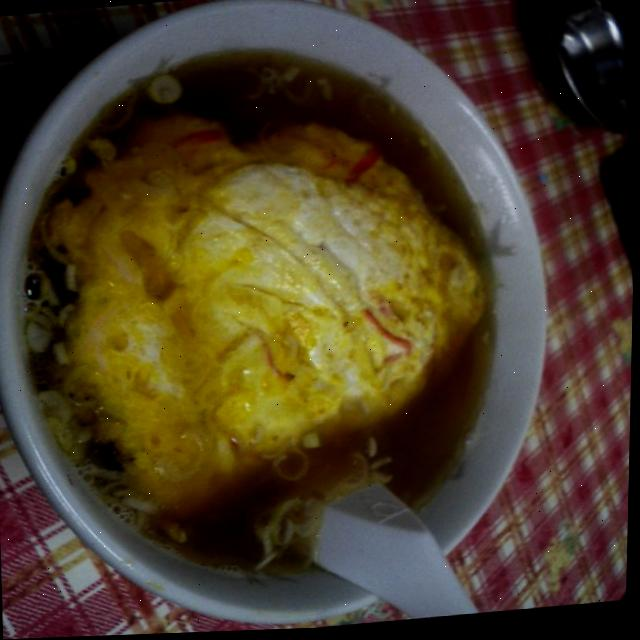面条主食: (0, 19, 551, 616)
